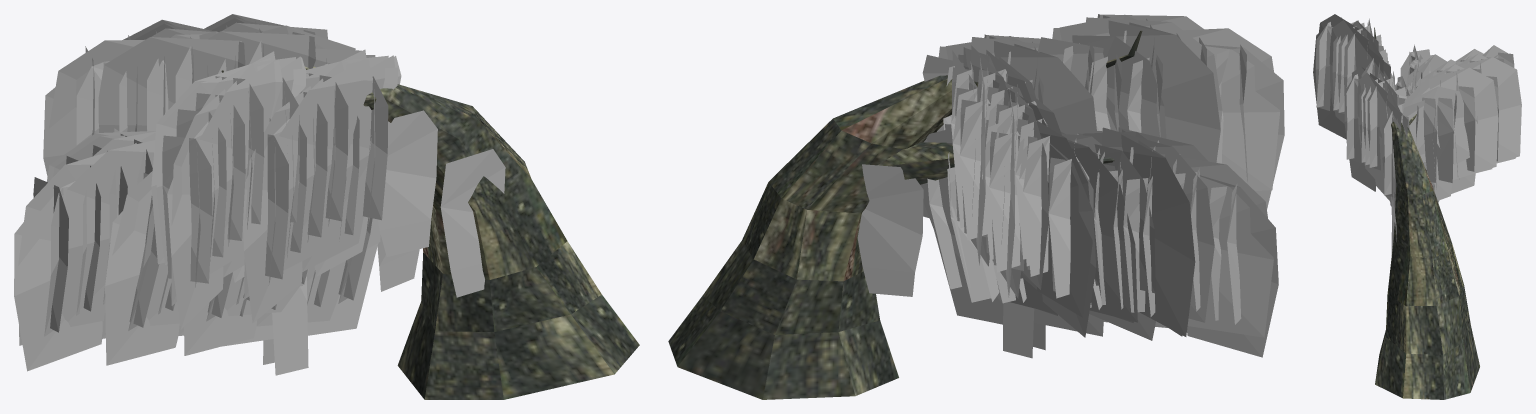
Rendered from Willow_003.fbx.
The picture shows the model from 3 angles, left to right: view 1: azimuth 30°, elevation 25°; view 2: azimuth 150°, elevation 25°; view 3: azimuth 270°, elevation 25°; orthographic projection. The views are drawn at different scales.
Parts seen in each view (by area): view 1: Tree_Saule_Leaves3, Tree_Saule_Trunk3, Tree_Saule_Leaves3_details; view 2: Tree_Saule_Leaves3, Tree_Saule_Trunk3, Tree_Saule_Leaves3_details; view 3: Tree_Saule_Leaves3, Tree_Saule_Trunk3, Tree_Saule_Leaves3_details.
Part boxes in pixels (box(x1,y1,x2,y2)): Tree_Saule_Leaves3: box(14, 14, 401, 371); Tree_Saule_Trunk3: box(221, 66, 639, 399); Tree_Saule_Leaves3_details: box(263, 110, 505, 375); Tree_Saule_Leaves3: box(920, 14, 1284, 357); Tree_Saule_Trunk3: box(668, 30, 1142, 399); Tree_Saule_Leaves3_details: box(857, 164, 1045, 358); Tree_Saule_Leaves3: box(1313, 14, 1521, 210); Tree_Saule_Trunk3: box(1374, 27, 1479, 399); Tree_Saule_Leaves3_details: box(1391, 147, 1396, 254).
Bounding box in the file's own units: 2756 × 1744 × 1322.
